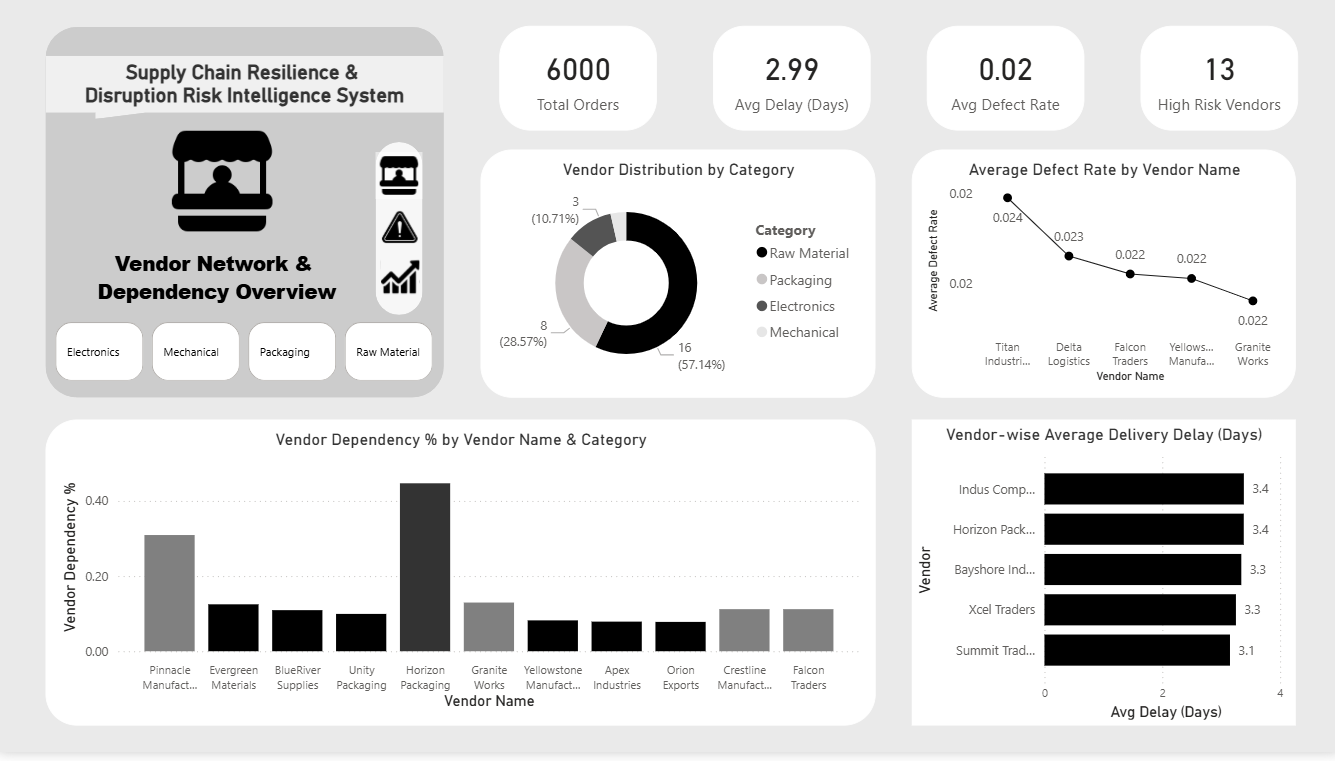

This screenshot's page, from the dashboard's own definition file:
{"tool":"powerbi","page":{"name":"Vendor View","canvas":[1280,720],"ordinal":0},"visuals":[{"type":"card","fields":{"Values":["All_Measures.Total Orders"]},"box":[478.8,28,150,100],"z":0},{"type":"shape","box":[45,28.3,380,353.3],"z":1000},{"type":"card","fields":{"Values":["All_Measures.High Risk Vendors"]},"box":[1090,28,150,100],"z":2000},{"type":"card","fields":{"Values":["All_Measures.Average Delay (Days)"]},"box":[682.5,28,150,100],"z":3000},{"type":"card","fields":{"Values":["All_Measures.Average Defect Rate"]},"box":[886.3,28,150,100],"z":4000},{"type":"donutChart","fields":{"Y":["All_Measures.Number Of Vendors"],"Category":["procurement_risk_db vendor_dependency_risk.category"]},"box":[460,145,376.7,236.7],"z":5000},{"type":"lineChart","title":"Average Defect Rate by Vendor Name","fields":{"Category":["procurement_risk_db vendor_dependency_risk.vendor_name"],"Y":["All_Measures.Average Defect Rate"]},"box":[871.7,145,366.7,236.7],"z":6000},{"type":"columnChart","title":"Vendor Dependency %  by Vendor Name  & Category","fields":{"Y":["All_Measures.Vendor Dependency %"],"Category":["procurement_risk_db vendor_dependency_risk.vendor_name"],"Series":["procurement_risk_db vendor_dependency_risk.category"]},"box":[45,403.3,791.7,291.7],"z":7000},{"type":"shape","box":[45.3,56.3,380.1,60.4],"z":8000},{"type":"textbox","box":[45.3,56.3,380.1,60.4],"z":9000},{"type":"image","box":[149.2,128,130,95.7],"z":10000},{"type":"advancedSlicerVisual","fields":{"Values":["procurement_risk_db vendor_dependency_risk.category"]},"box":[30,305,413.3,66.7],"z":12000},{"type":"shape","box":[360,138.3,45,165],"z":13000},{"type":"actionButton","box":[360.9,196.2,43.9,45.3],"z":14000},{"type":"actionButton","box":[361.7,244.5,45,45],"z":15000},{"type":"actionButton","box":[360,147.9,45,45],"z":16000},{"type":"clusteredBarChart","title":"Vendor-wise Average Delivery Delay (Days)","fields":{"Category":["procurement_risk_db vendor_dependency_risk.vendor_name"],"Y":["All_Measures.Average Delay (Days)"]},"box":[871.7,403.3,366.7,291.7],"z":17000},{"type":"textbox","box":[69,236,272.7,66.8],"z":18000}]}

Visuals, with their boxes in screenshot pixels (x1, y1, x2, y2), scaled from the page's 1280x720 canvas onto the 1335x761 screenshot:
card - All_Measures.Total Orders: [x1=499, y1=30, x2=656, y2=135]
shape: [x1=47, y1=30, x2=443, y2=403]
card - All_Measures.High Risk Vendors: [x1=1137, y1=30, x2=1293, y2=135]
card - All_Measures.Average Delay (Days): [x1=712, y1=30, x2=868, y2=135]
card - All_Measures.Average Defect Rate: [x1=924, y1=30, x2=1081, y2=135]
donutChart - All_Measures.Number Of Vendors x procurement_risk_db vendor_dependency_risk.category: [x1=480, y1=153, x2=873, y2=403]
"Average Defect Rate by Vendor Name" lineChart: [x1=909, y1=153, x2=1292, y2=403]
"Vendor Dependency %  by Vendor Name  & Category" columnChart: [x1=47, y1=426, x2=873, y2=735]
shape: [x1=47, y1=60, x2=444, y2=123]
textbox: [x1=47, y1=60, x2=444, y2=123]
image: [x1=156, y1=135, x2=291, y2=236]
advancedSlicerVisual - procurement_risk_db vendor_dependency_risk.category: [x1=31, y1=322, x2=462, y2=393]
shape: [x1=375, y1=146, x2=422, y2=321]
actionButton: [x1=376, y1=207, x2=422, y2=255]
actionButton: [x1=377, y1=258, x2=424, y2=306]
actionButton: [x1=375, y1=156, x2=422, y2=204]
"Vendor-wise Average Delivery Delay (Days)" clusteredBarChart: [x1=909, y1=426, x2=1292, y2=735]
textbox: [x1=72, y1=249, x2=356, y2=320]
